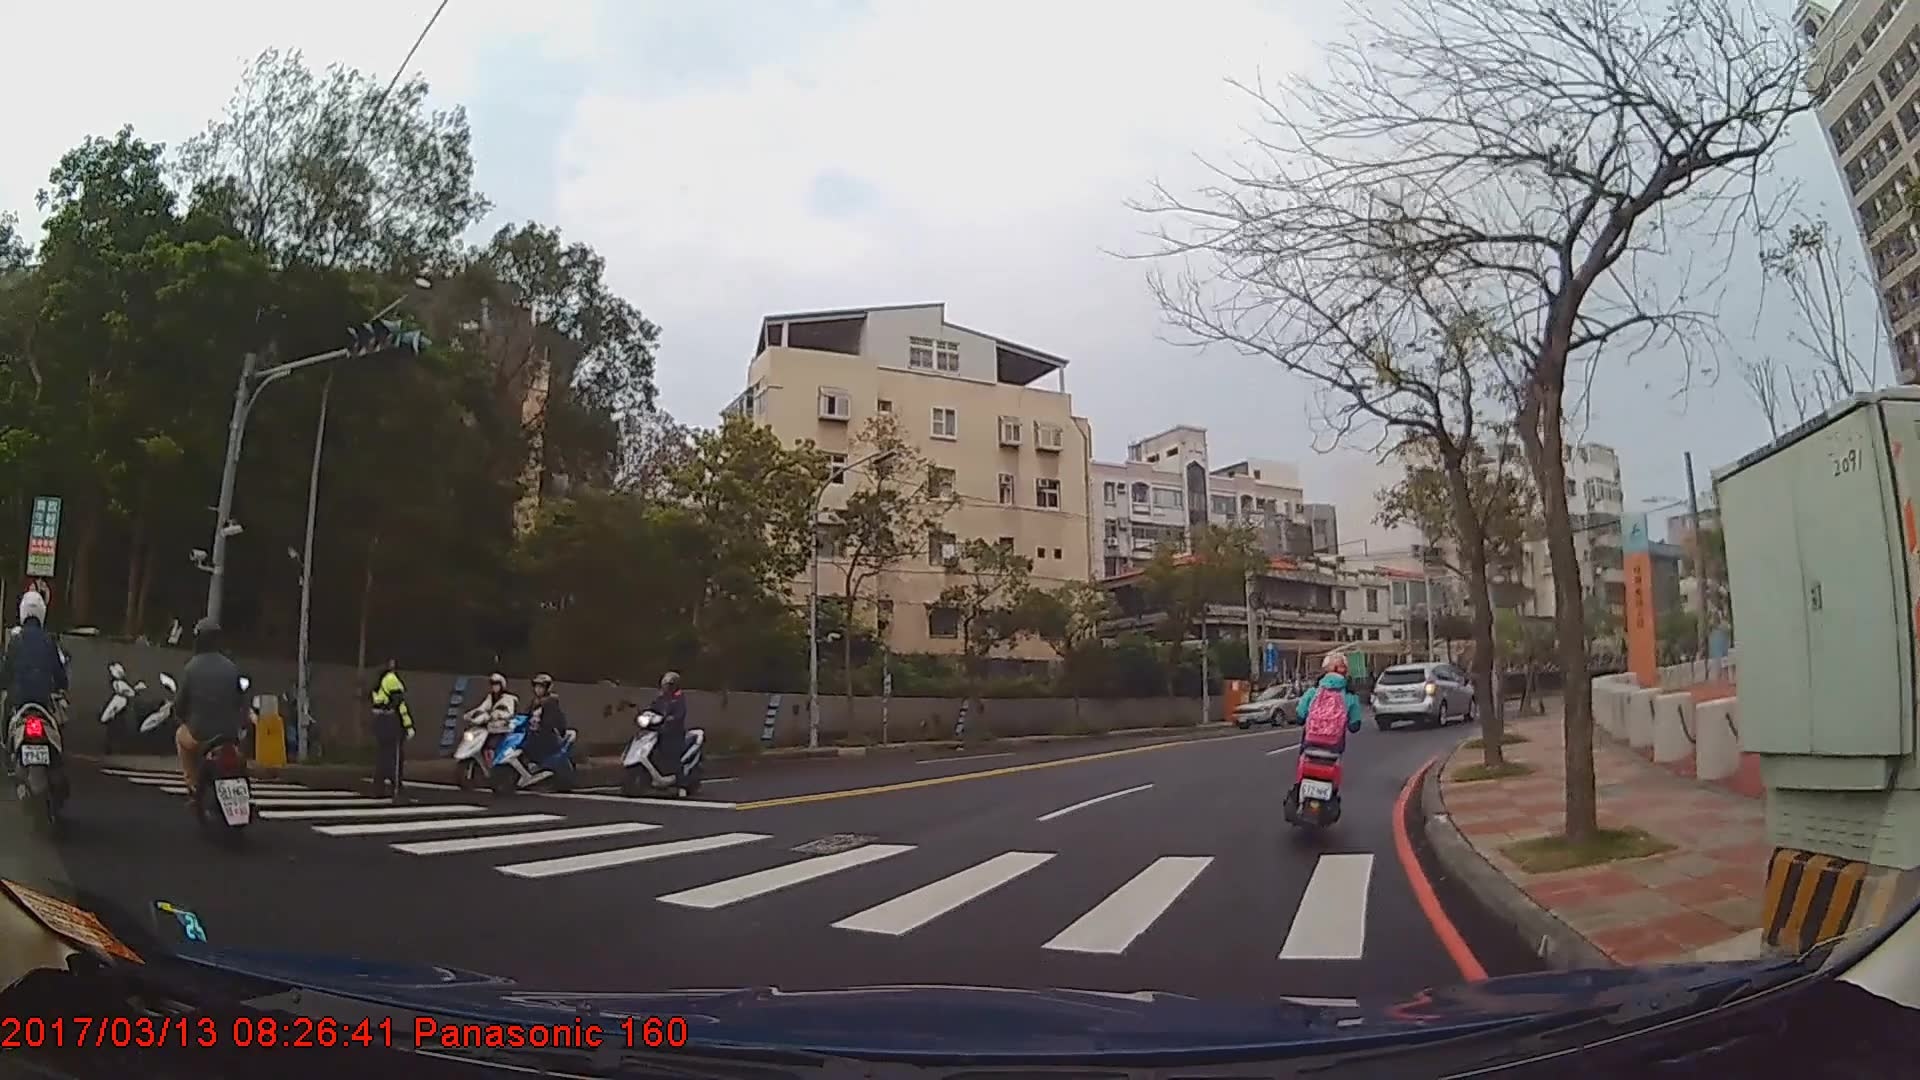pedestrian: (370, 643, 419, 797)
rider: (159, 611, 253, 841), (1, 588, 77, 836), (1287, 652, 1364, 831), (621, 671, 708, 796), (496, 669, 575, 790), (454, 669, 533, 785)
vehicle: (1368, 661, 1476, 728), (1230, 683, 1323, 730)
